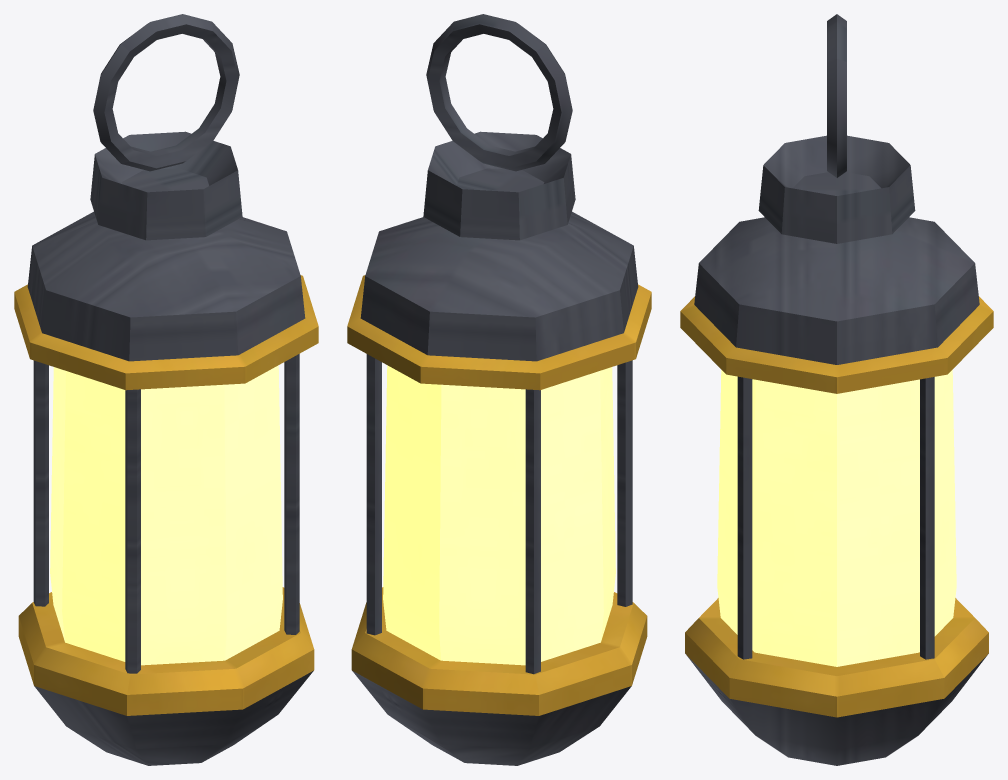
File: lantern.glb
3 views of the same model, side by side, from view 1: azimuth 30°, elevation 25°; view 2: azimuth 150°, elevation 25°; view 3: azimuth 270°, elevation 25° (orthographic).
Parts seen in each view (by area): view 1: lantern; view 2: lantern; view 3: lantern.
Boxes of the visible parts, box(x1,y1,x2,y2) form: lantern: box(14, 14, 318, 765); lantern: box(347, 14, 651, 765); lantern: box(680, 14, 993, 765).
Bounding box in the file's own units: 0.136 × 0.3526 × 0.136.
Materials: 4 (4 with a texture image).
